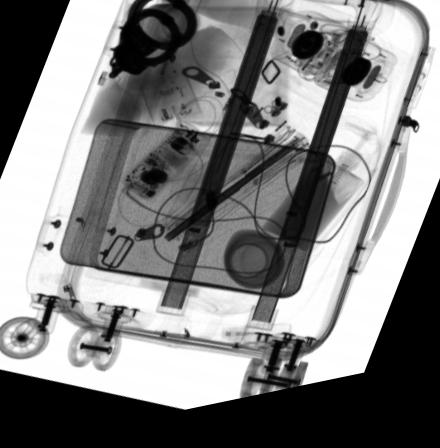HandCuffs: (101, 0, 201, 85)
